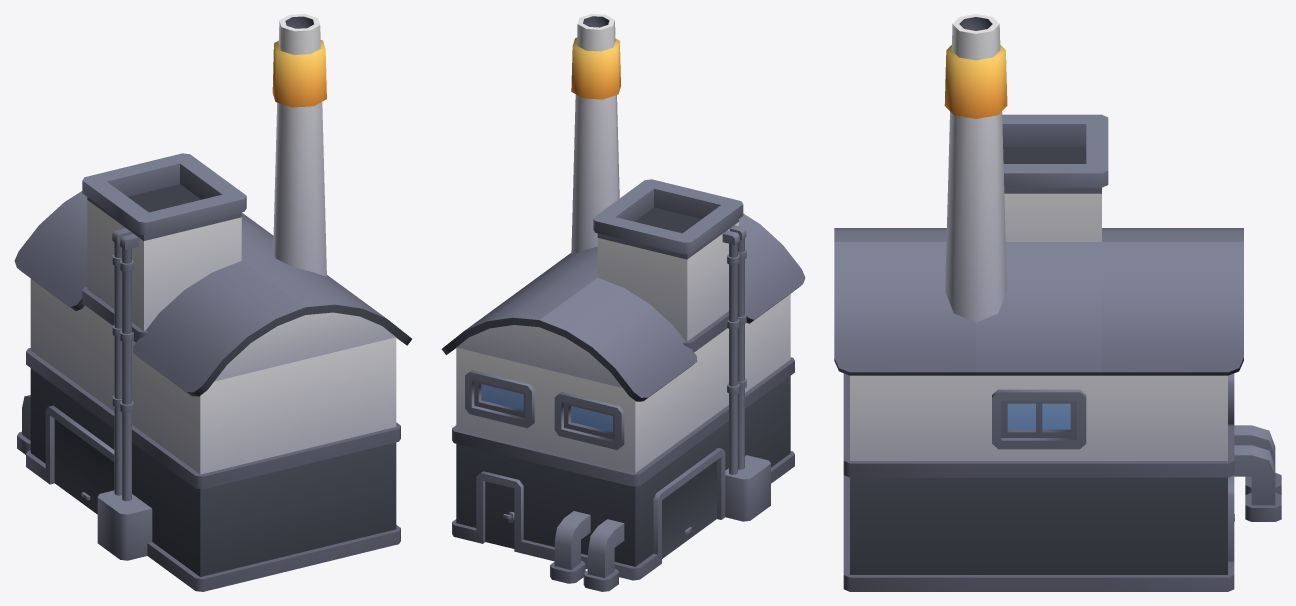
Rendered from kenney-industrial_building-n.glb.
The picture shows the model from 3 angles, left to right: view 1: azimuth 30°, elevation 25°; view 2: azimuth 150°, elevation 25°; view 3: azimuth 270°, elevation 25°; orthographic projection. The views are drawn at different scales.
Parts seen in each view (by area): view 1: building-n; view 2: building-n; view 3: building-n.
Boxes of the visible parts, left/top/right/bottom form: building-n: left=14, top=14, right=411, bottom=591; building-n: left=441, top=14, right=805, bottom=591; building-n: left=834, top=14, right=1281, bottom=591.
Bounding box in the file's own units: 0.9766 × 1.9 × 1.42.
Materials: 2 (2 with a texture image).
